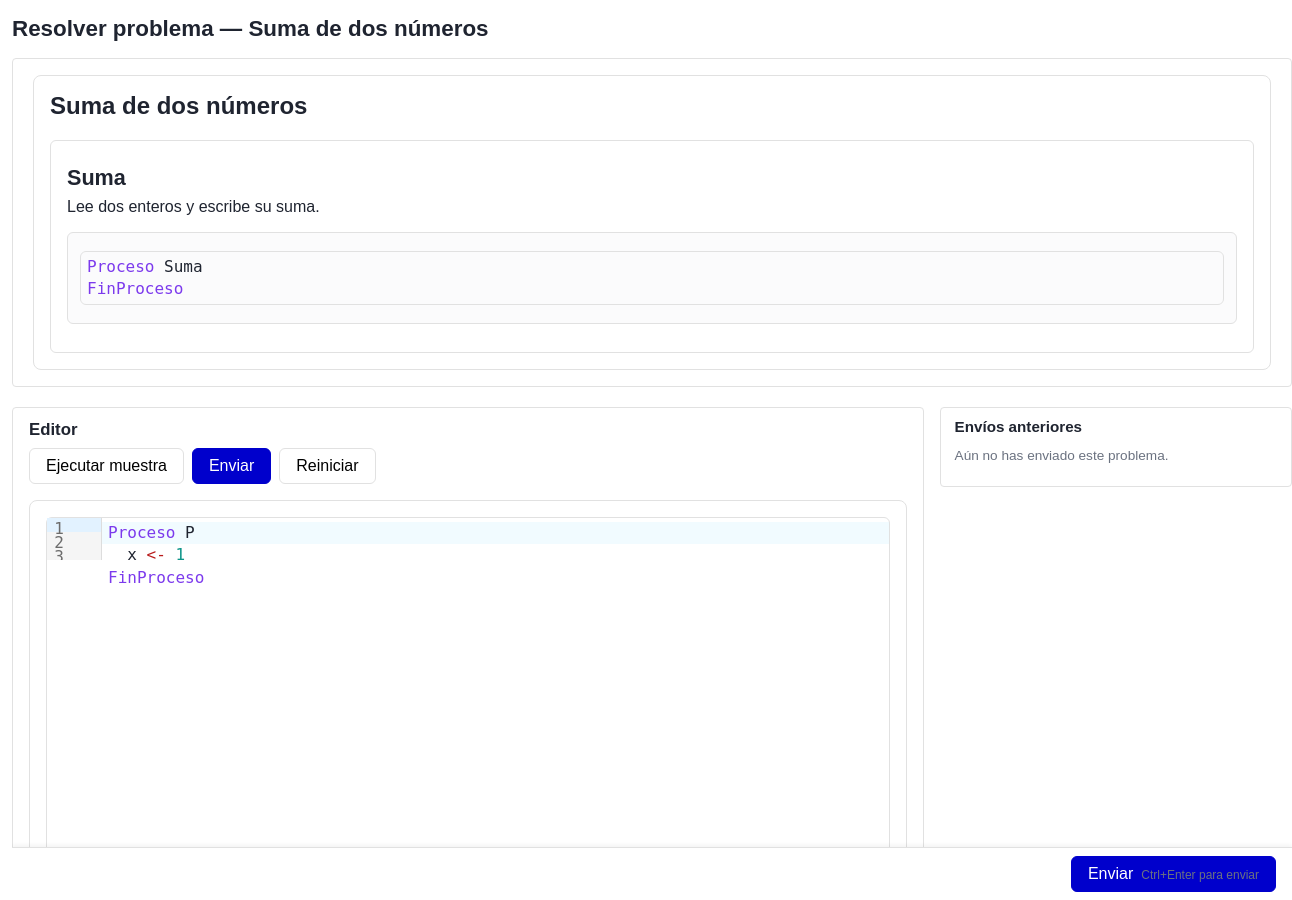
Test: solve page › submits via POST /api/runs and shows the run status + per-case results
Check: the heading "Suma de dos números" is shown, box 50,92 -> 307,119
Step 1. Click the button "Enviar" → (232,466), box 192,448 -> 271,484
(page scrolled)
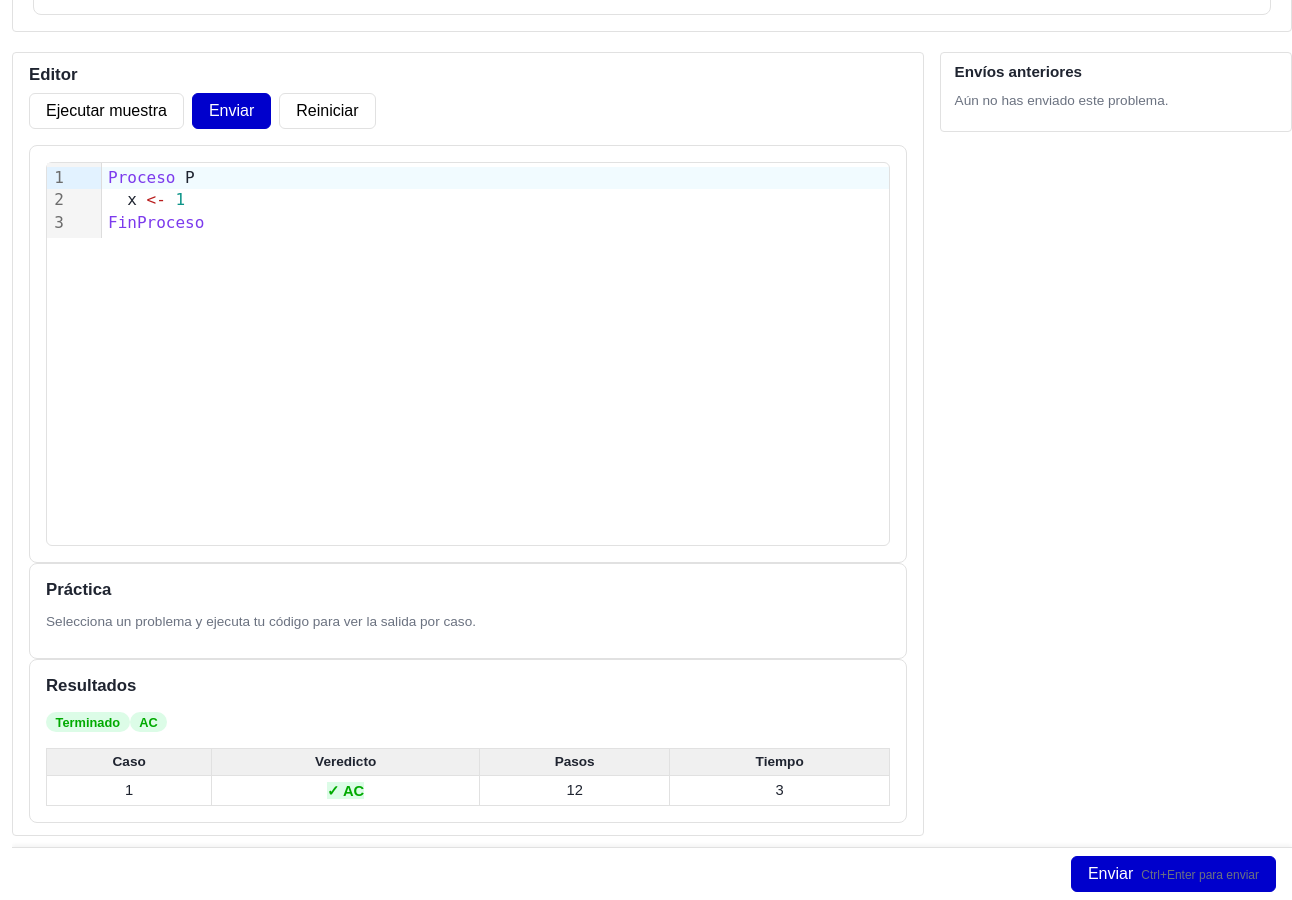
Check: the text "Terminado" is shown, box 46,712 -> 130,732
Check: the text "AC" is shown, box 130,712 -> 167,732
Check: the text "12" is shown, box 480,775 -> 670,805
